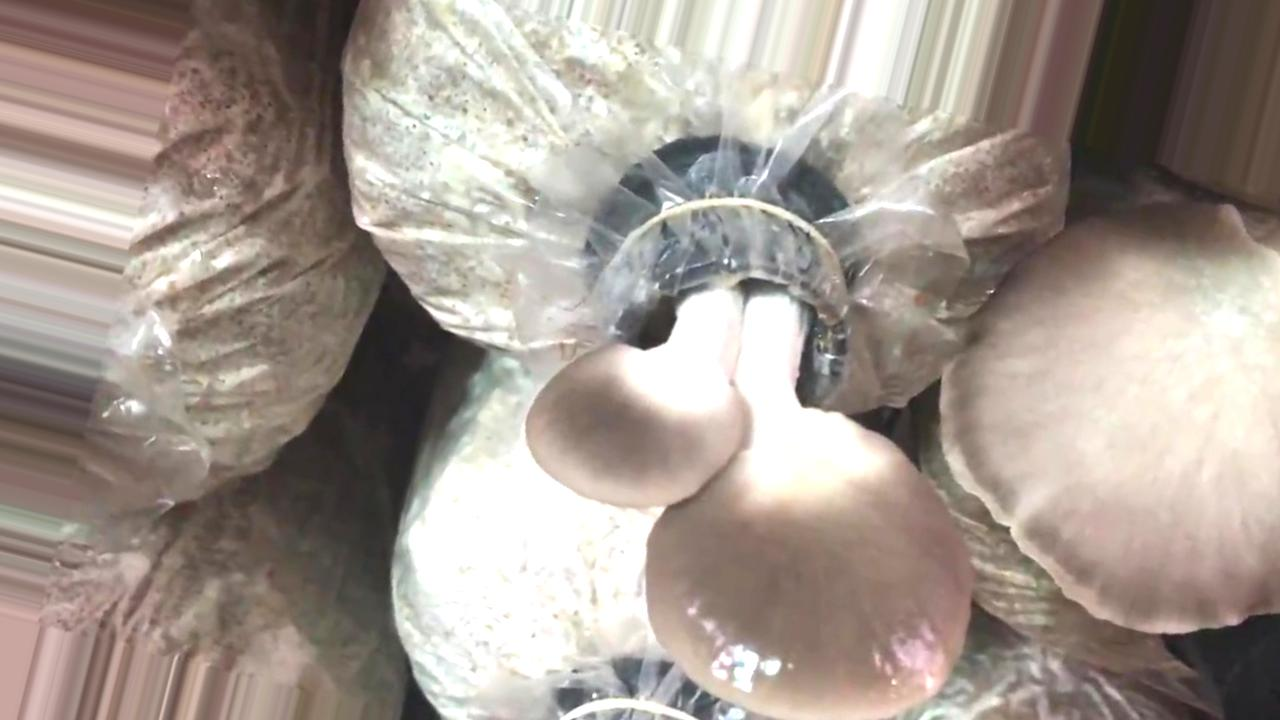nam: (521, 180, 974, 720), (939, 192, 1280, 635)
